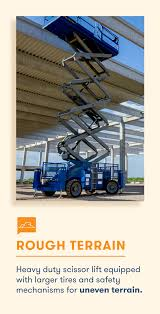Scissor Lift: (30, 14, 126, 199)
